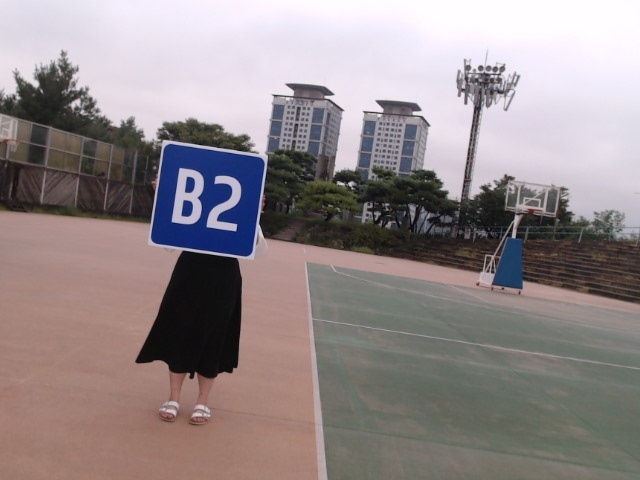delivery_b2: (147, 143, 266, 258)
